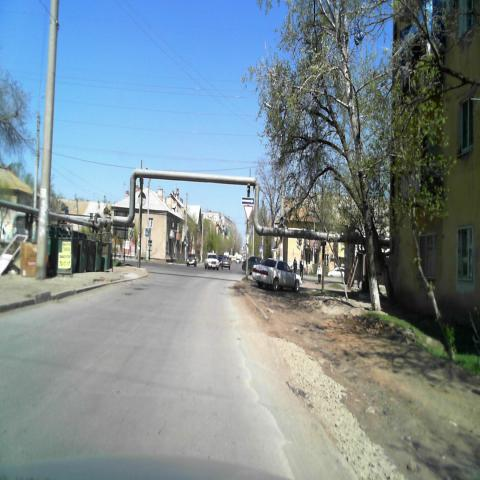5_7_1: (242, 198, 254, 206)
